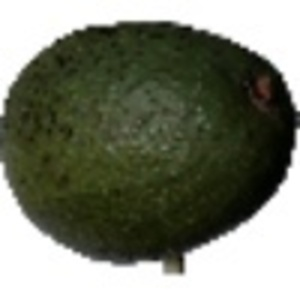abacate: (1, 17, 295, 266)
